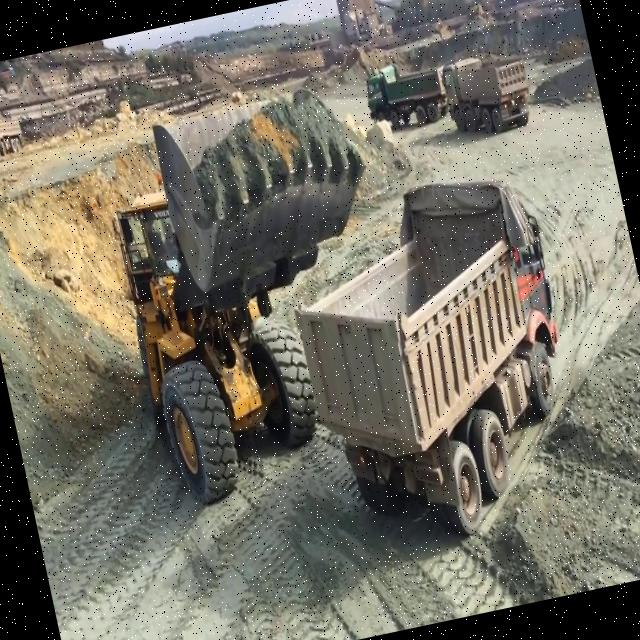Dump Truck: (268, 157, 602, 566), (438, 46, 538, 140), (358, 51, 452, 136), (0, 93, 34, 162)
Loader: (83, 67, 433, 523)
